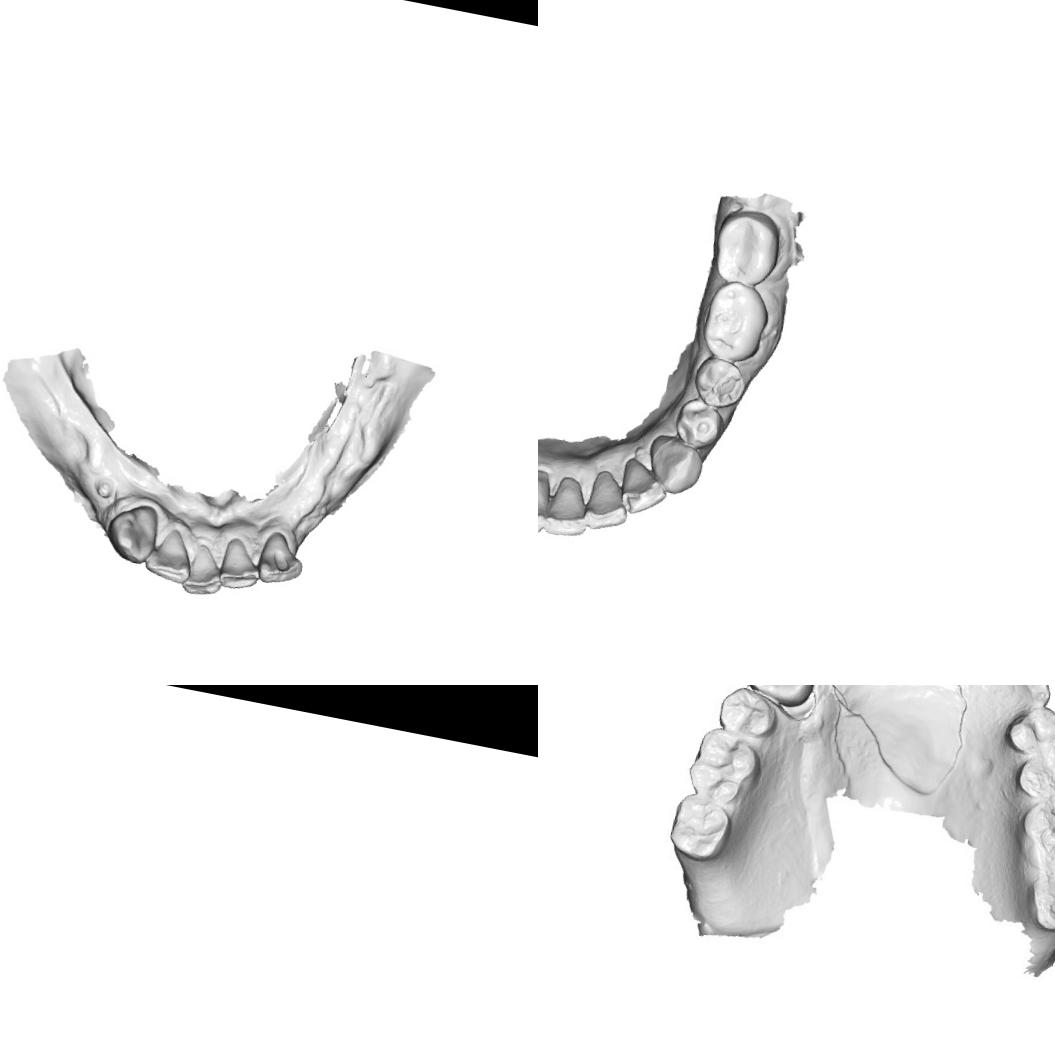canine: (640, 433, 710, 500), (100, 496, 164, 567), (1002, 685, 1055, 710)
incisor: (541, 470, 599, 543), (613, 456, 674, 520), (581, 467, 636, 536), (251, 526, 311, 589), (139, 523, 197, 586), (216, 533, 266, 596), (180, 539, 229, 602), (538, 461, 561, 535)
molar: (693, 276, 776, 367), (706, 204, 785, 292), (684, 724, 762, 802), (663, 785, 733, 860), (1013, 792, 1055, 882), (1024, 863, 1055, 930)
premolar: (686, 352, 750, 414), (668, 394, 728, 456), (1003, 698, 1055, 759), (717, 688, 774, 742), (1014, 747, 1055, 803), (743, 685, 818, 701)
